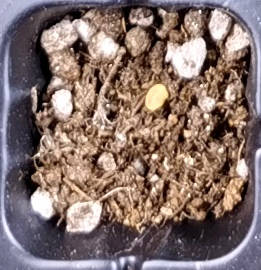pepper seed: (60, 28, 229, 140)
